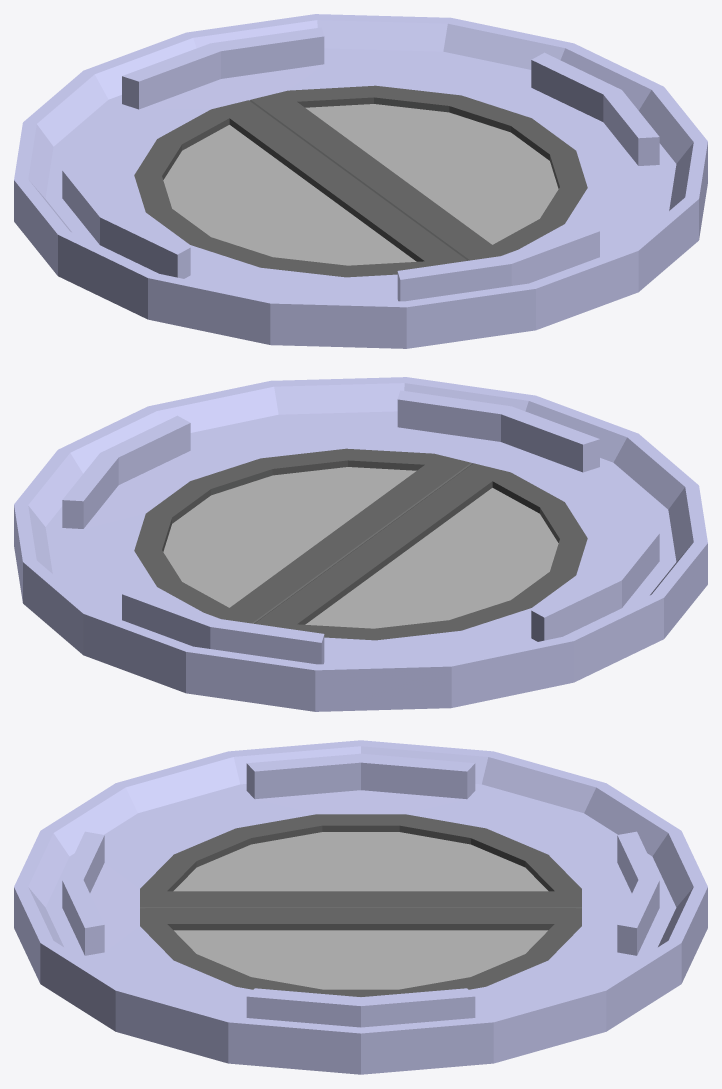
The model's file is Coupler.fbx.
The picture shows the model from 3 angles, top to bottom: view 1: azimuth 30°, elevation 25°; view 2: azimuth 150°, elevation 25°; view 3: azimuth 270°, elevation 25°; orthographic projection.
Parts seen in each view (by area): view 1: Cylinder.004; view 2: Cylinder.004; view 3: Cylinder.004.
Part boxes in pixels (box(x1,y1,x2,y2)): Cylinder.004: box(14, 14, 707, 348); Cylinder.004: box(14, 377, 707, 711); Cylinder.004: box(14, 740, 707, 1074).
Size of the model in its own units: 5954 by 456 by 5954.
